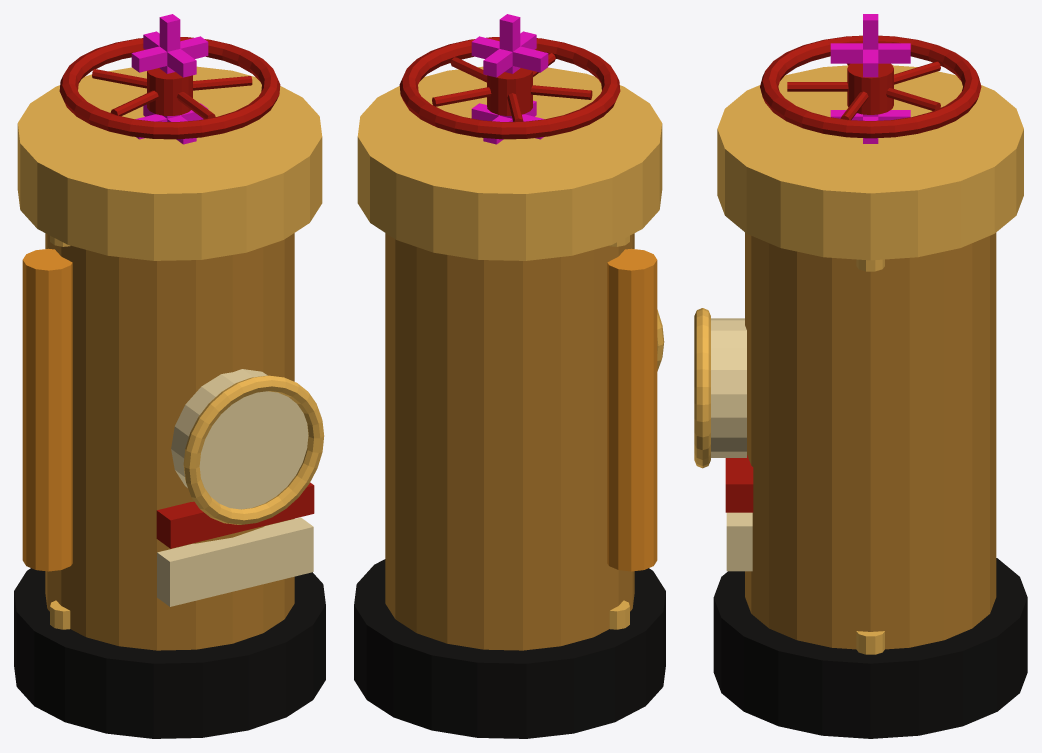
The model's file is PICKUP_PressureCell_Ammo_Blockout.obj.
The picture shows the model from 3 angles, left to right: view 1: azimuth 30°, elevation 25°; view 2: azimuth 150°, elevation 25°; view 3: azimuth 270°, elevation 25°; orthographic projection.
Parts seen in each view (by area): view 1: CELL_MainBrassCylinder, CELL_BrassTopCap, CELL_BlackBaseCap, GLASS_AmberPressureTube, GAUGE_FrontCreamFace, LABEL_CreamAmmoStripe, VALVE_TopHandWheel_rim, GAUGE_FrontBrassRim, LABEL_RedPressureStripe, SOCKET_PickupVFX, VALVE_TopHandWheel_hub, SOCKET_Valve (+2 smaller); view 2: CELL_MainBrassCylinder, CELL_BrassTopCap, CELL_BlackBaseCap, GLASS_AmberPressureTube, VALVE_TopHandWheel_rim, SOCKET_PickupVFX, VALVE_TopHandWheel_hub, SOCKET_Valve, VALVE_TopHandWheel_spoke_05, VALVE_TopHandWheel_spoke_03; view 3: CELL_MainBrassCylinder, CELL_BrassTopCap, CELL_BlackBaseCap, VALVE_TopHandWheel_rim, GAUGE_FrontCreamFace, GAUGE_FrontBrassRim, SOCKET_PickupVFX, VALVE_TopHandWheel_hub, LABEL_CreamAmmoStripe, LABEL_RedPressureStripe, SOCKET_Valve, RIVET_01 (+2 smaller).
Part boxes in pixels (bbox=[...]): CELL_MainBrassCylinder: bbox=[45, 233, 294, 650]; CELL_BrassTopCap: bbox=[17, 66, 322, 260]; CELL_BlackBaseCap: bbox=[14, 568, 325, 738]; GLASS_AmberPressureTube: bbox=[22, 248, 72, 571]; GAUGE_FrontCreamFace: bbox=[171, 369, 308, 509]; LABEL_CreamAmmoStripe: bbox=[157, 517, 313, 606]; VALVE_TopHandWheel_rim: bbox=[59, 37, 280, 139]; GAUGE_FrontBrassRim: bbox=[183, 375, 324, 524]; LABEL_RedPressureStripe: bbox=[156, 482, 314, 548]; SOCKET_PickupVFX: bbox=[131, 14, 208, 77]; VALVE_TopHandWheel_hub: bbox=[147, 68, 192, 115]; SOCKET_Valve: bbox=[135, 103, 208, 144]; CELL_MainBrassCylinder: bbox=[385, 233, 634, 650]; CELL_BrassTopCap: bbox=[357, 66, 662, 260]; CELL_BlackBaseCap: bbox=[354, 559, 665, 738]; GLASS_AmberPressureTube: bbox=[607, 248, 657, 571]; VALVE_TopHandWheel_rim: bbox=[399, 37, 620, 139]; SOCKET_PickupVFX: bbox=[471, 14, 548, 77]; VALVE_TopHandWheel_hub: bbox=[487, 68, 532, 115]; SOCKET_Valve: bbox=[471, 100, 544, 144]; VALVE_TopHandWheel_spoke_05: bbox=[531, 85, 592, 99]; VALVE_TopHandWheel_spoke_03: bbox=[432, 87, 491, 106]; CELL_MainBrassCylinder: bbox=[745, 232, 996, 649]; CELL_BrassTopCap: bbox=[717, 65, 1023, 260]; CELL_BlackBaseCap: bbox=[713, 558, 1027, 738]; VALVE_TopHandWheel_rim: bbox=[760, 35, 981, 138]; GAUGE_FrontCreamFace: bbox=[711, 318, 746, 457]; GAUGE_FrontBrassRim: bbox=[694, 308, 710, 468]; SOCKET_PickupVFX: bbox=[830, 14, 910, 77]; VALVE_TopHandWheel_hub: bbox=[847, 63, 893, 114]; LABEL_CreamAmmoStripe: bbox=[726, 512, 752, 571]; LABEL_RedPressureStripe: bbox=[725, 455, 753, 512]; SOCKET_Valve: bbox=[830, 110, 910, 143]; RIVET_01: bbox=[856, 631, 884, 654].
Size of what is drawn, in the model's own units: 0.175 by 0.3916 by 0.1805.
